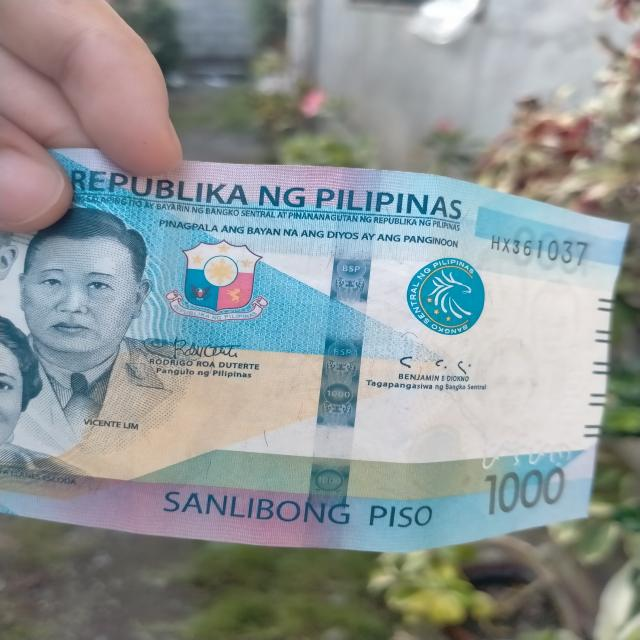security_thread: (303, 170, 384, 549)
see_through_mark: (468, 438, 575, 472)
serial_number: (470, 224, 592, 268)
watermark: (462, 250, 583, 442)
